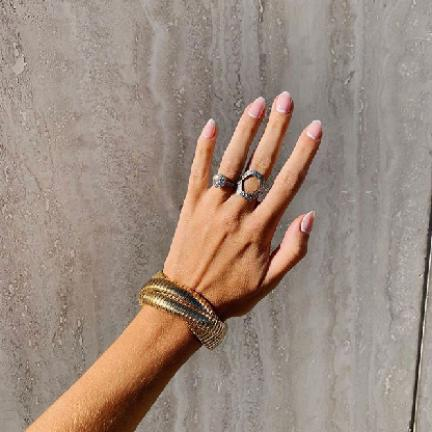Nail: (248, 97, 266, 119), (275, 92, 293, 114), (300, 211, 315, 234), (305, 120, 322, 140), (202, 119, 216, 138)
